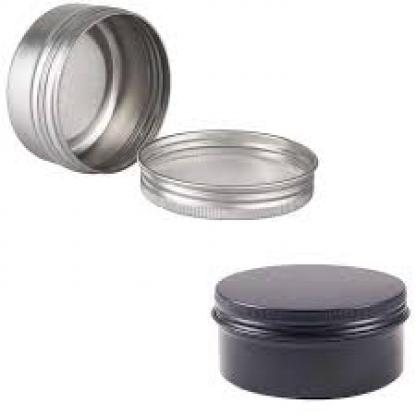METAL: (2, 2, 168, 170), (210, 262, 408, 398), (135, 128, 316, 218)
